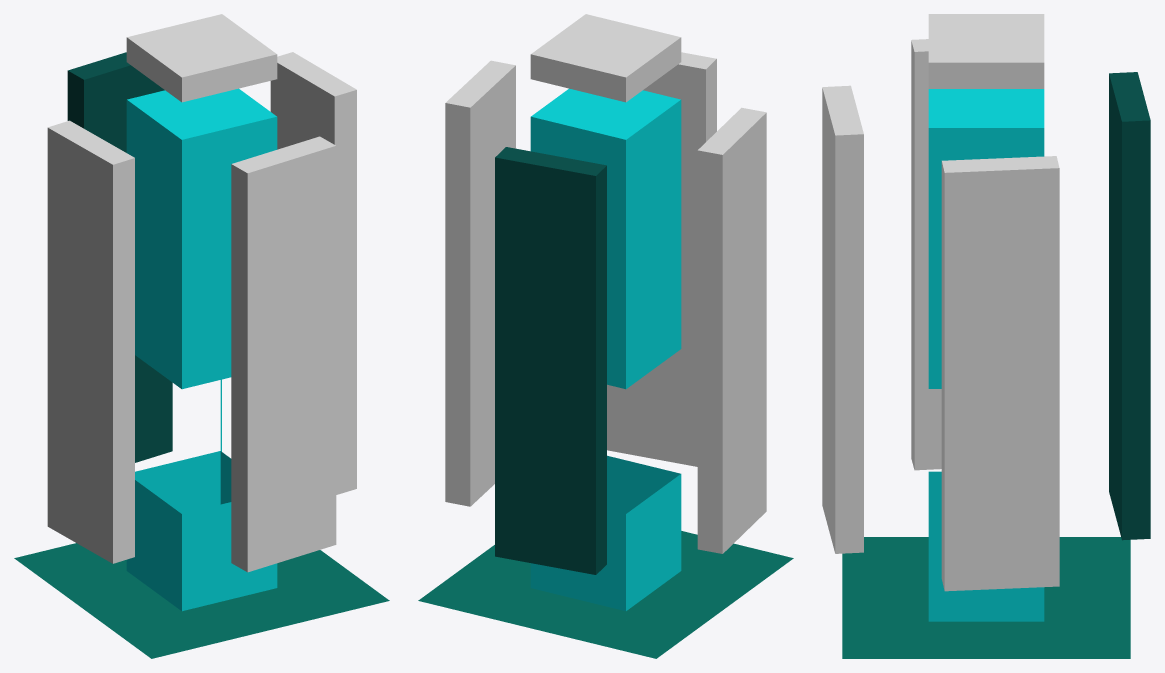
The model's file is pilon.glb.
The picture shows the model from 3 angles, left to right: view 1: azimuth 30°, elevation 25°; view 2: azimuth 150°, elevation 25°; view 3: azimuth 270°, elevation 25°; orthographic projection. The views are drawn at different scales.
Visible parts, largest first — view 1: Cube, Cube.003, Cube.004, Plane, Cube.001, Cube.005, Cube.002; view 2: Cube.002, Cube, Cube.004, Cube.001, Plane, Cube.003, Cube.005; view 3: Cube.001, Plane, Cube.002, Cube.003, Cube, Cube.004, Cube.005.
Part boxes in pixels (bbox=[...]): Cube: bbox=[126, 88, 277, 611]; Cube.003: bbox=[231, 136, 336, 572]; Cube.004: bbox=[47, 120, 134, 563]; Plane: bbox=[14, 543, 389, 658]; Cube.001: bbox=[270, 52, 356, 494]; Cube.005: bbox=[126, 14, 277, 102]; Cube.002: bbox=[67, 52, 172, 462]; Cube.002: bbox=[495, 147, 606, 574]; Cube: bbox=[530, 88, 681, 611]; Cube.004: bbox=[697, 107, 766, 553]; Cube.001: bbox=[445, 60, 515, 506]; Plane: bbox=[418, 531, 793, 658]; Cube.003: bbox=[607, 52, 716, 466]; Cube.005: bbox=[530, 14, 681, 102]; Cube.001: bbox=[941, 156, 1059, 591]; Plane: bbox=[842, 537, 1130, 658]; Cube.002: bbox=[1109, 72, 1150, 540]; Cube.003: bbox=[822, 85, 863, 553]; Cube: bbox=[928, 89, 1044, 621]; Cube.004: bbox=[911, 39, 941, 470]; Cube.005: bbox=[928, 14, 1044, 88].
Size of the model in its own units: 5.68 by 11.25 by 5.69.
